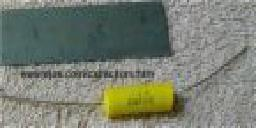Electrolytic Capacitor: (2, 67, 246, 128)
